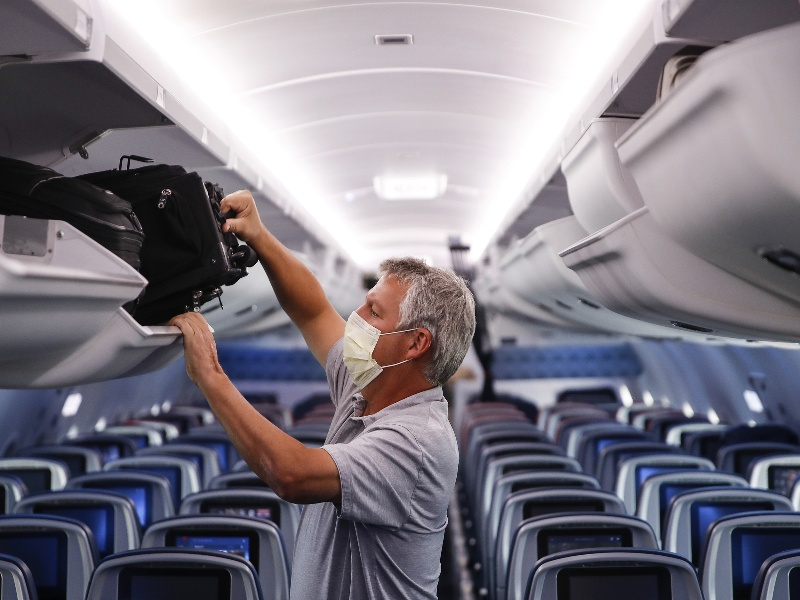mask: (340, 310, 383, 391)
